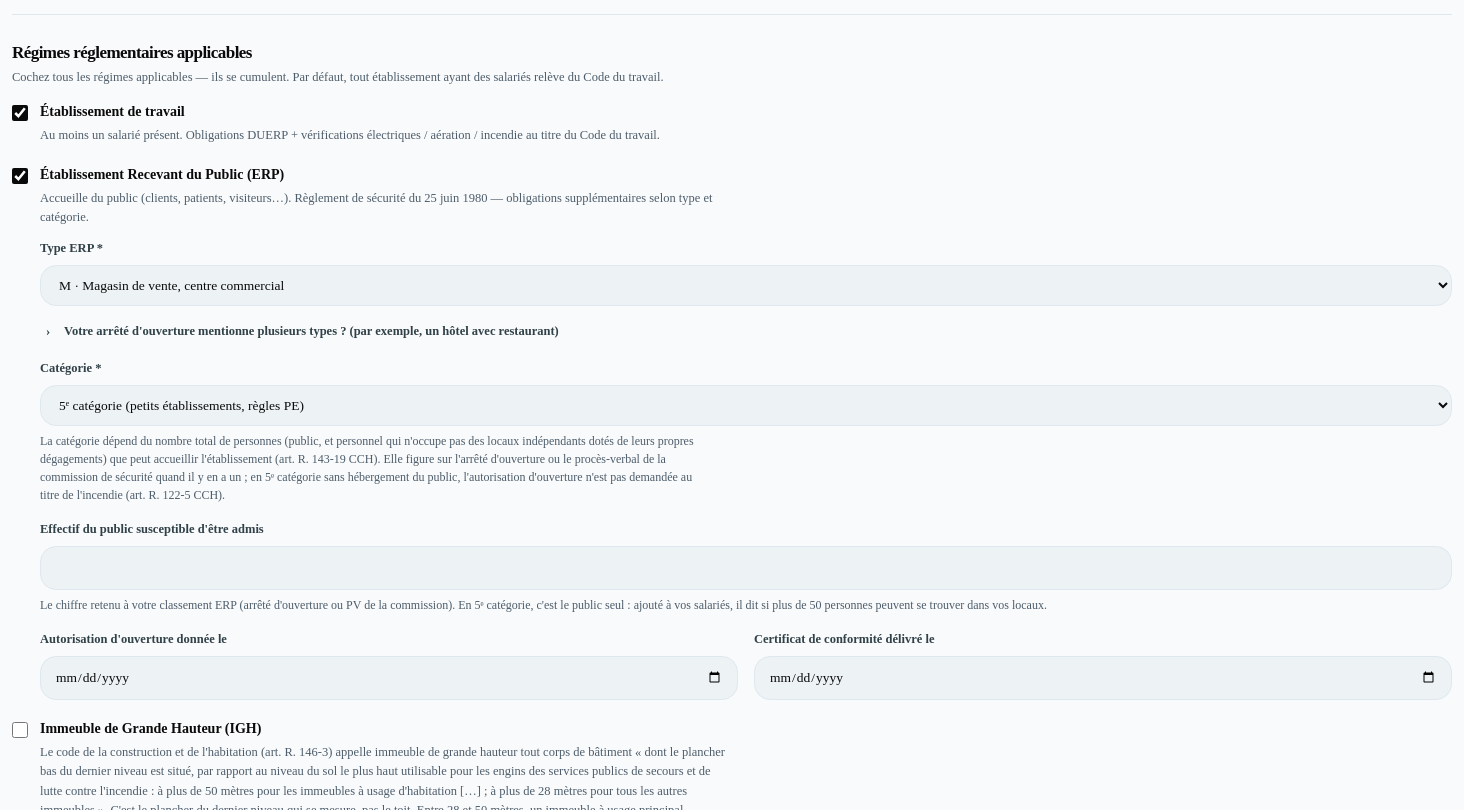
Test case: fiche établissement : la question du SSI A ou B (DF 10 § 3) › absente en 5ᵉ catégorie, et elle suit la catégorie choisie
This screenshot has width=1464, height=810.
(page scrolled)
Select "3ᵉ catégorie (301 à 700)" in the dropdown named "categorieErp" at point(746, 406), box [40,385,1452,426]
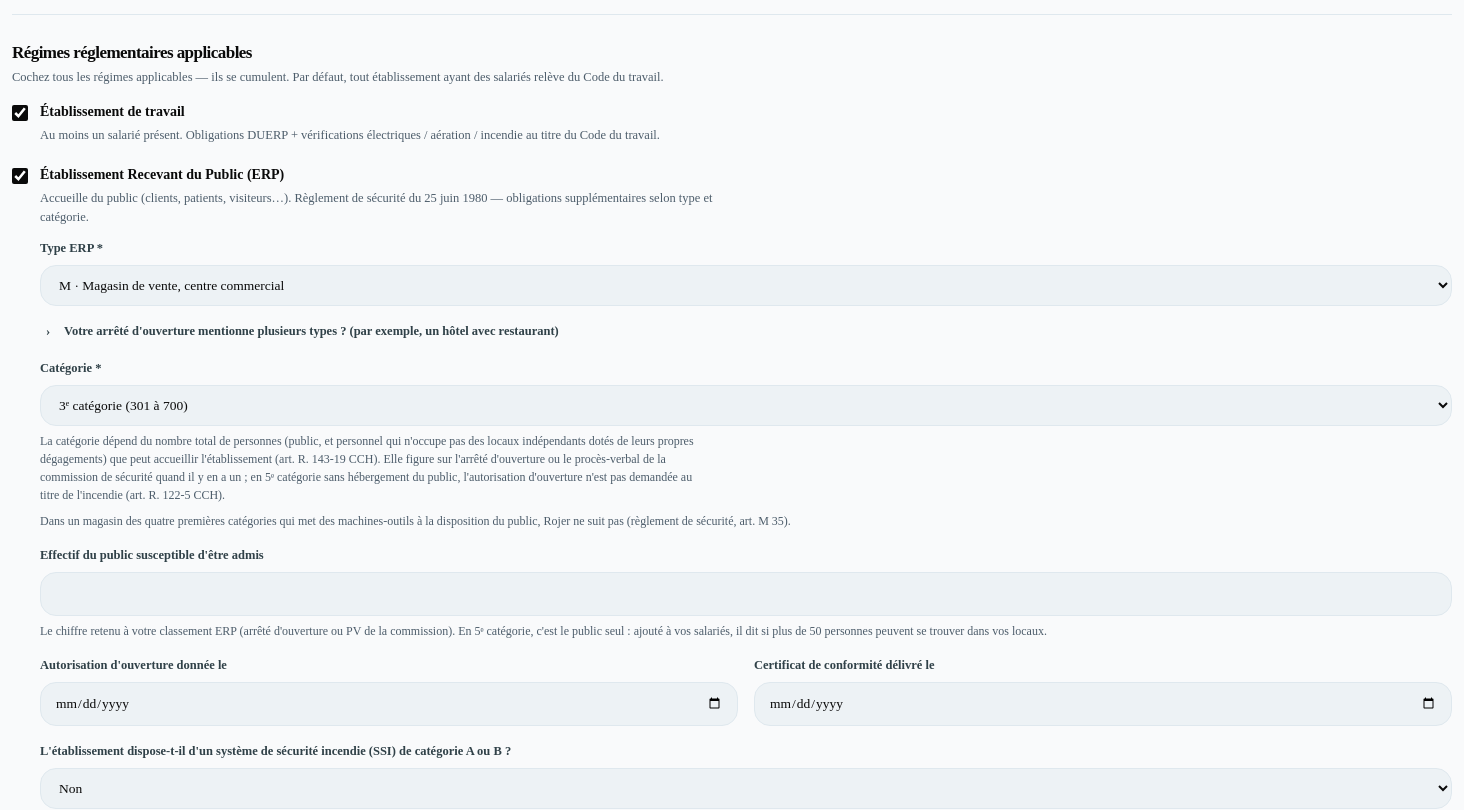
Expected: the dropdown named "ssiCategorieAouB" is shown, [40,768,1452,809]
